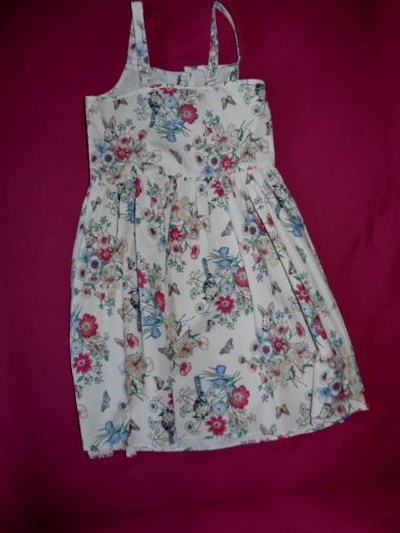Dress: (0, 0, 378, 487), (72, 517, 400, 533), (0, 51, 10, 533)
